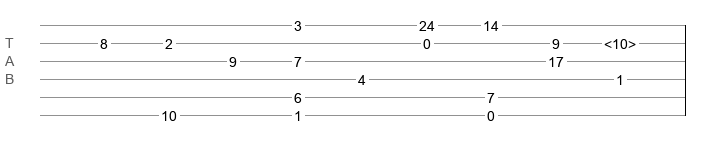0: (423, 36, 431, 46), (487, 108, 495, 118)
1: (294, 108, 302, 118), (616, 72, 624, 82)
10: (161, 108, 177, 118)
14: (483, 18, 499, 28)
17: (548, 54, 564, 64)
2: (165, 36, 173, 46)
24: (419, 18, 435, 28)
3: (294, 18, 302, 28)
4: (358, 72, 366, 82)
6: (294, 90, 302, 100)
7: (294, 54, 302, 64), (487, 90, 495, 100)
8: (100, 36, 108, 46)
9: (229, 54, 237, 64), (552, 36, 560, 46)
harmonic: (604, 36, 636, 46)
